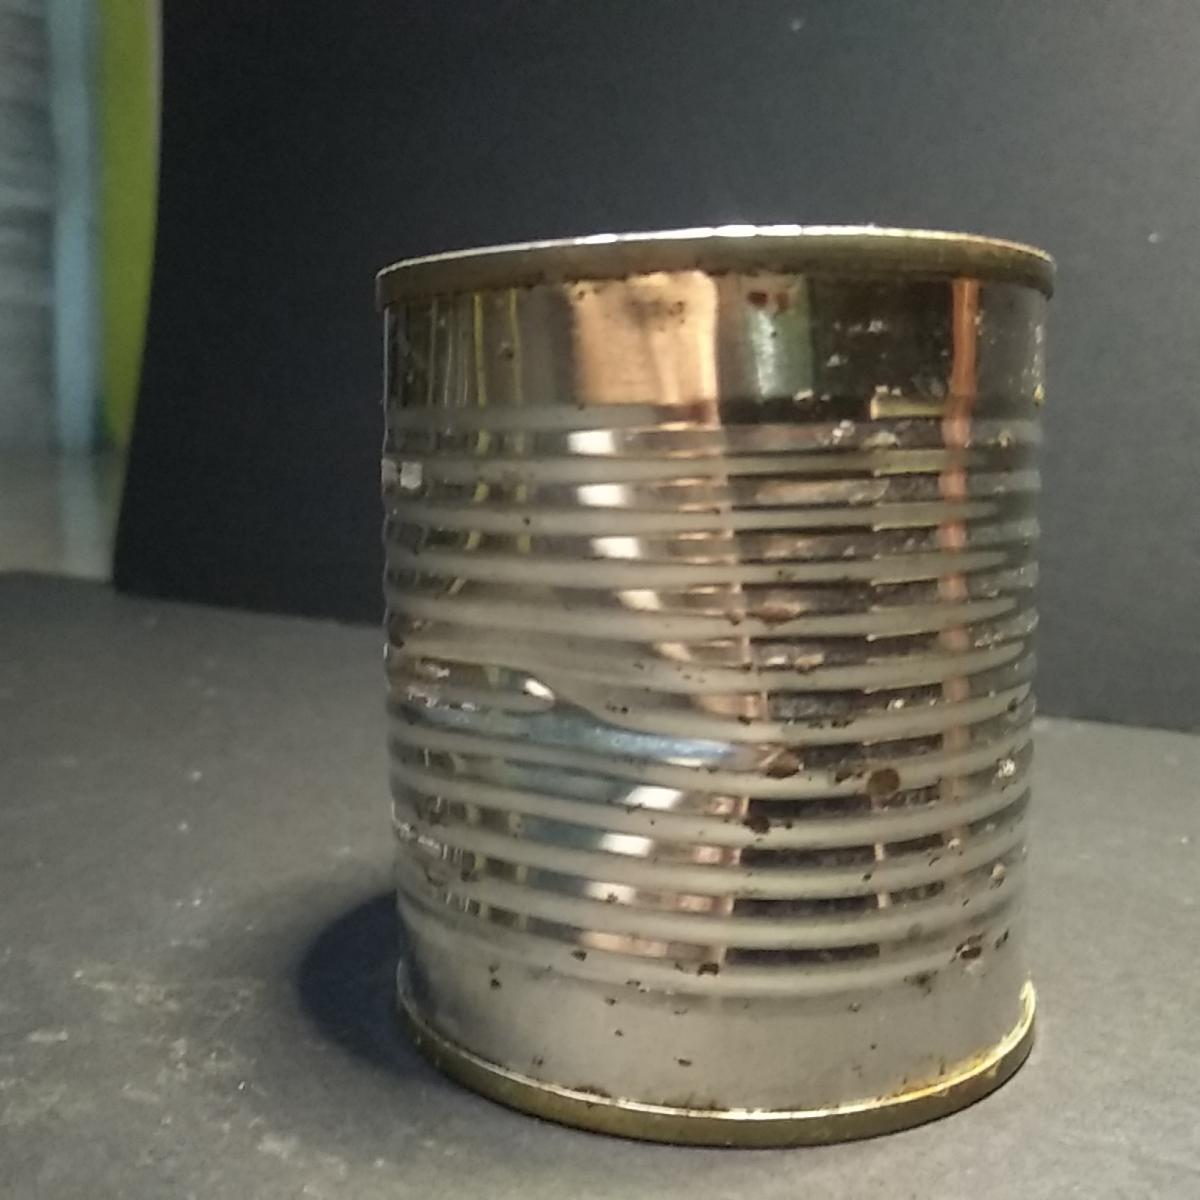Dented: (366, 205, 1070, 1156)
